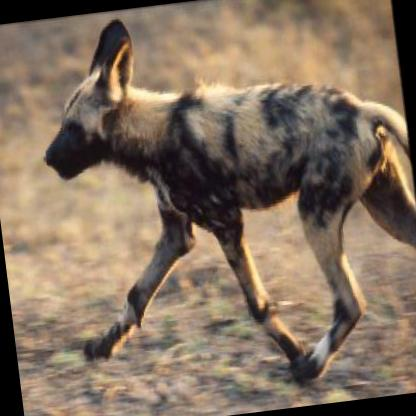African_hunting_dog: (25, 0, 416, 412)
